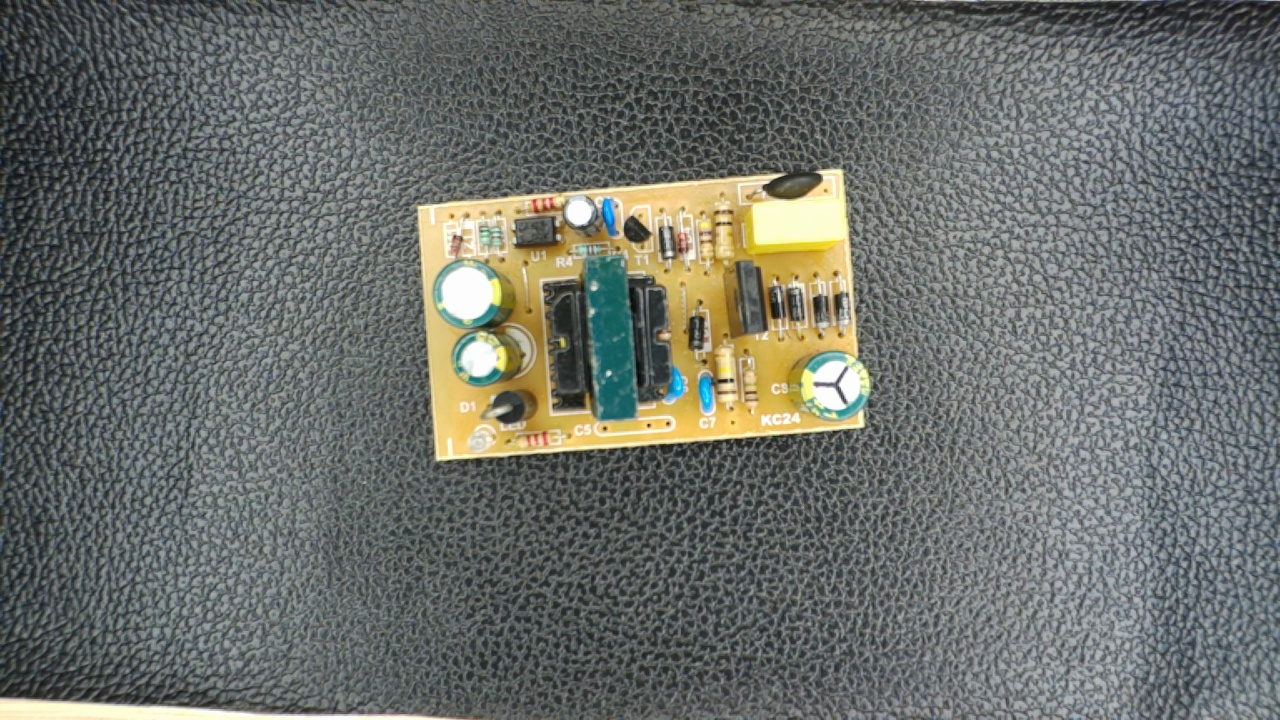fuse: (743, 168, 833, 203)
hv_capacitor: (785, 347, 873, 423)
optocoupler: (501, 215, 572, 252)
